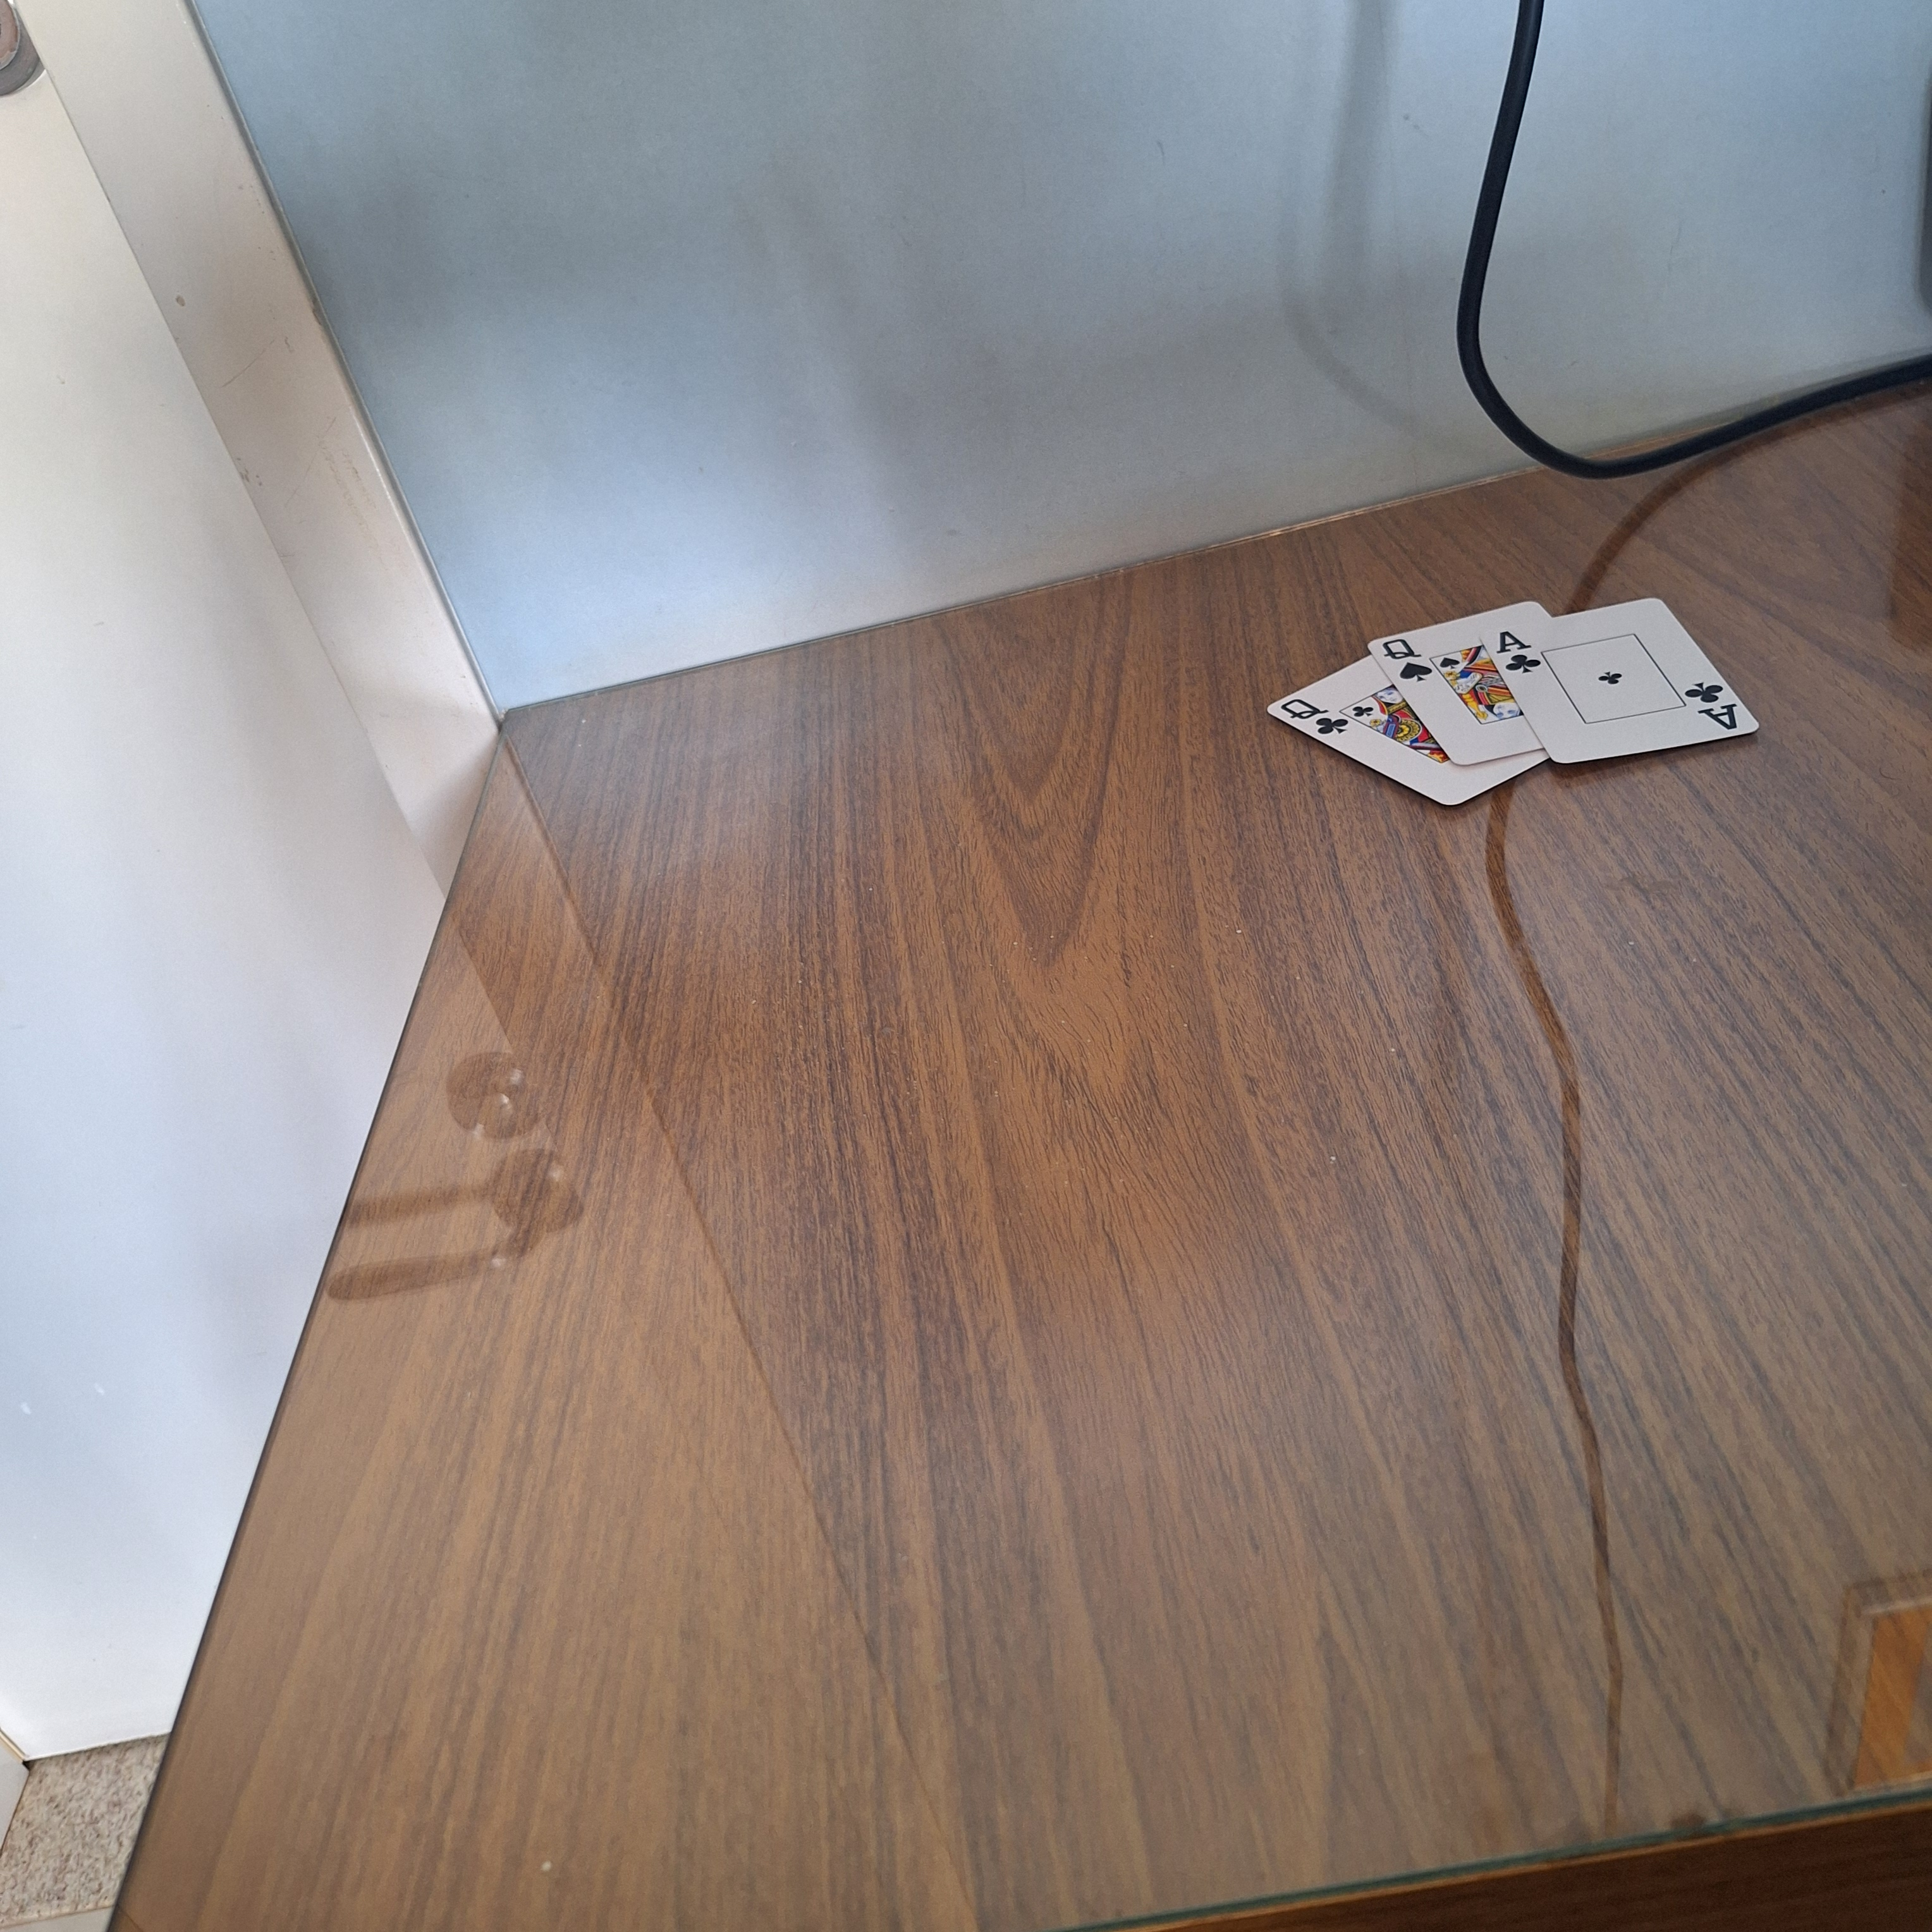AP: (1679, 678, 1753, 736), (1493, 623, 1548, 676)
QE: (1376, 632, 1437, 685)
QP: (1276, 694, 1350, 741)
